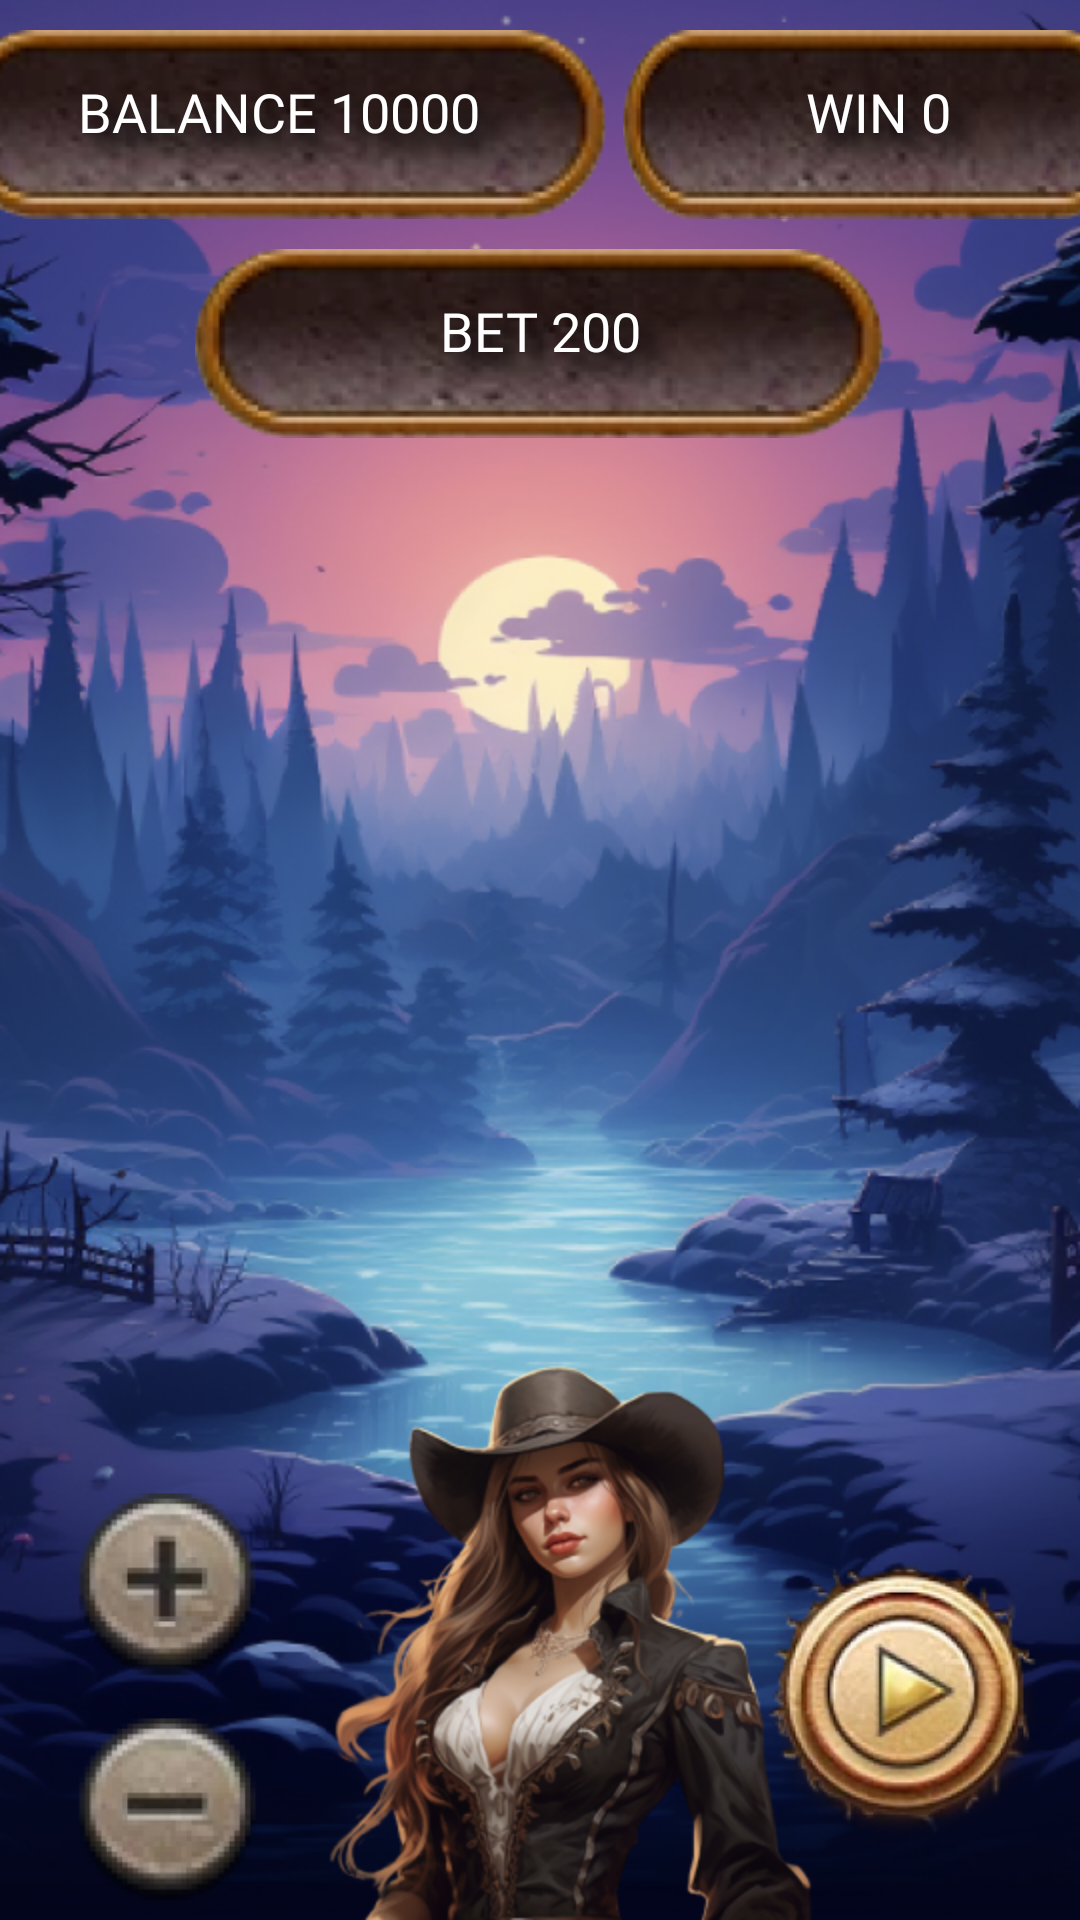

Icon click points for this 1080x1920 phone screenshot, format point (x, y):
minus stake: point (165, 1796)
play fife game: point (900, 1695)
plus stake: point (172, 1582)
